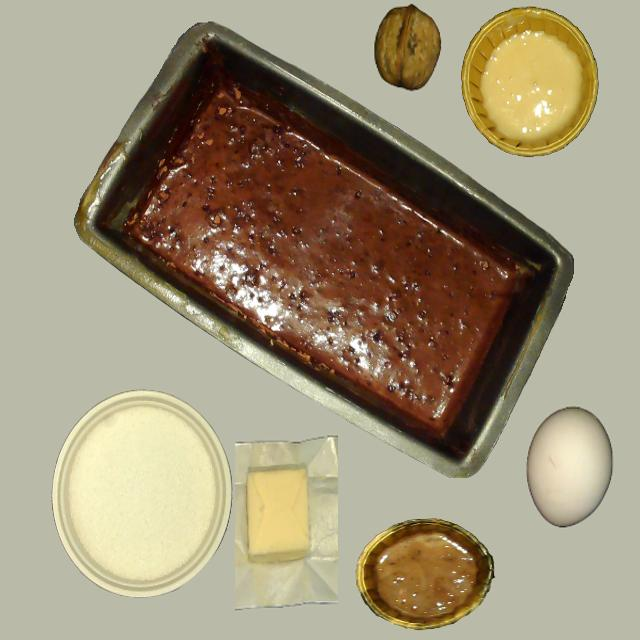Sugar: (52, 390, 228, 596)
Walnut: (374, 5, 440, 90)
